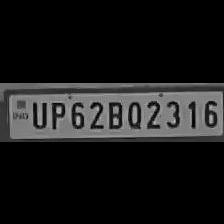1: (182, 96, 198, 128)
2: (84, 97, 104, 129), (143, 96, 161, 128)
3: (162, 96, 182, 128)
6: (66, 97, 86, 129), (199, 95, 219, 127)
B: (104, 96, 124, 128)
P: (46, 97, 66, 129)
Q: (124, 96, 144, 128)
U: (27, 98, 47, 128)
